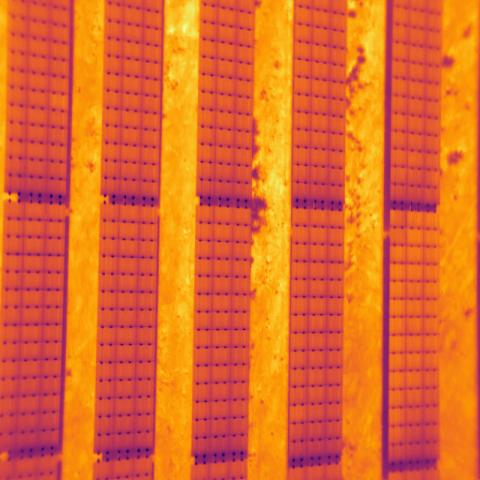fault: (48, 92, 70, 112)
